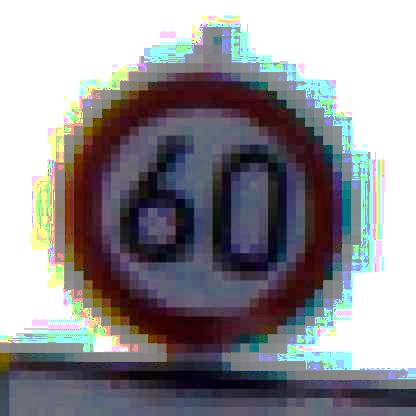Speed Limit -60-: (51, 63, 355, 356)
